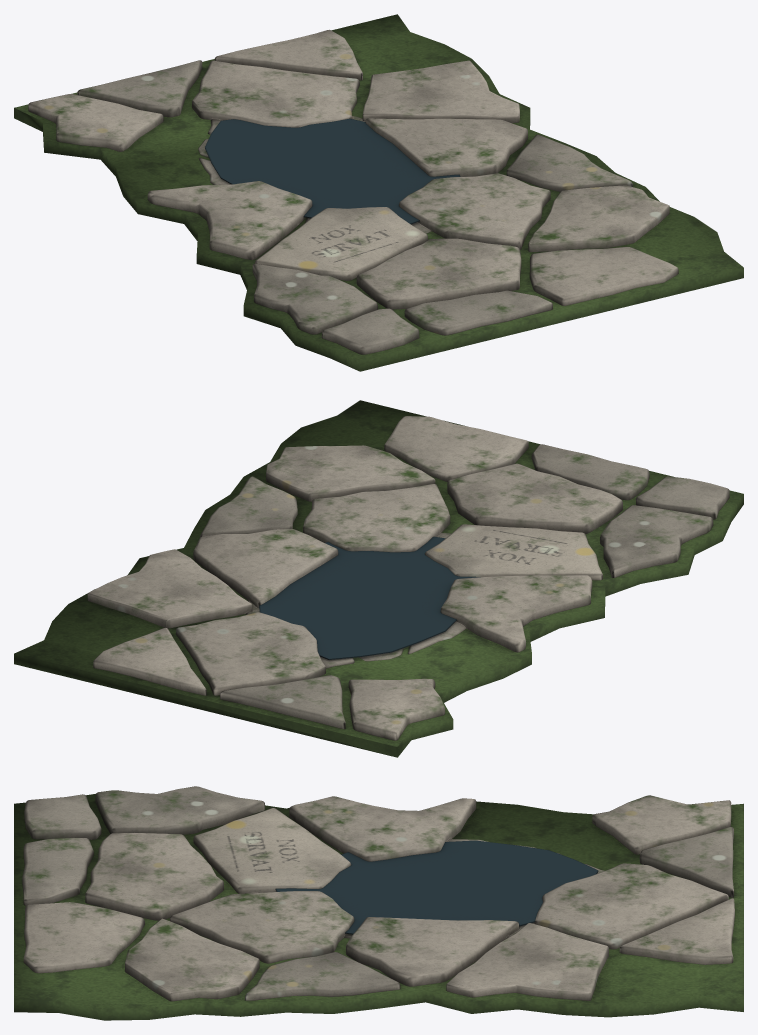
File: PathPuddleFlag.fbx
The picture shows the model from 3 angles, top to bottom: view 1: azimuth 30°, elevation 25°; view 2: azimuth 150°, elevation 25°; view 3: azimuth 270°, elevation 25°; orthographic projection. The views are drawn at different scales.
Visible parts, largest first — view 1: PathPuddleFlag_Main, PathPuddleFlag_Glass; view 2: PathPuddleFlag_Main, PathPuddleFlag_Glass; view 3: PathPuddleFlag_Main, PathPuddleFlag_Glass.
Part boxes in pixels (x1,y1,x2,y2): PathPuddleFlag_Main: [14, 14, 743, 371]; PathPuddleFlag_Glass: [205, 118, 460, 224]; PathPuddleFlag_Main: [14, 400, 743, 757]; PathPuddleFlag_Glass: [259, 536, 480, 659]; PathPuddleFlag_Main: [14, 786, 743, 1020]; PathPuddleFlag_Glass: [275, 840, 598, 934].
Size of the model in its own units: 733 by 33.1 by 1020.
